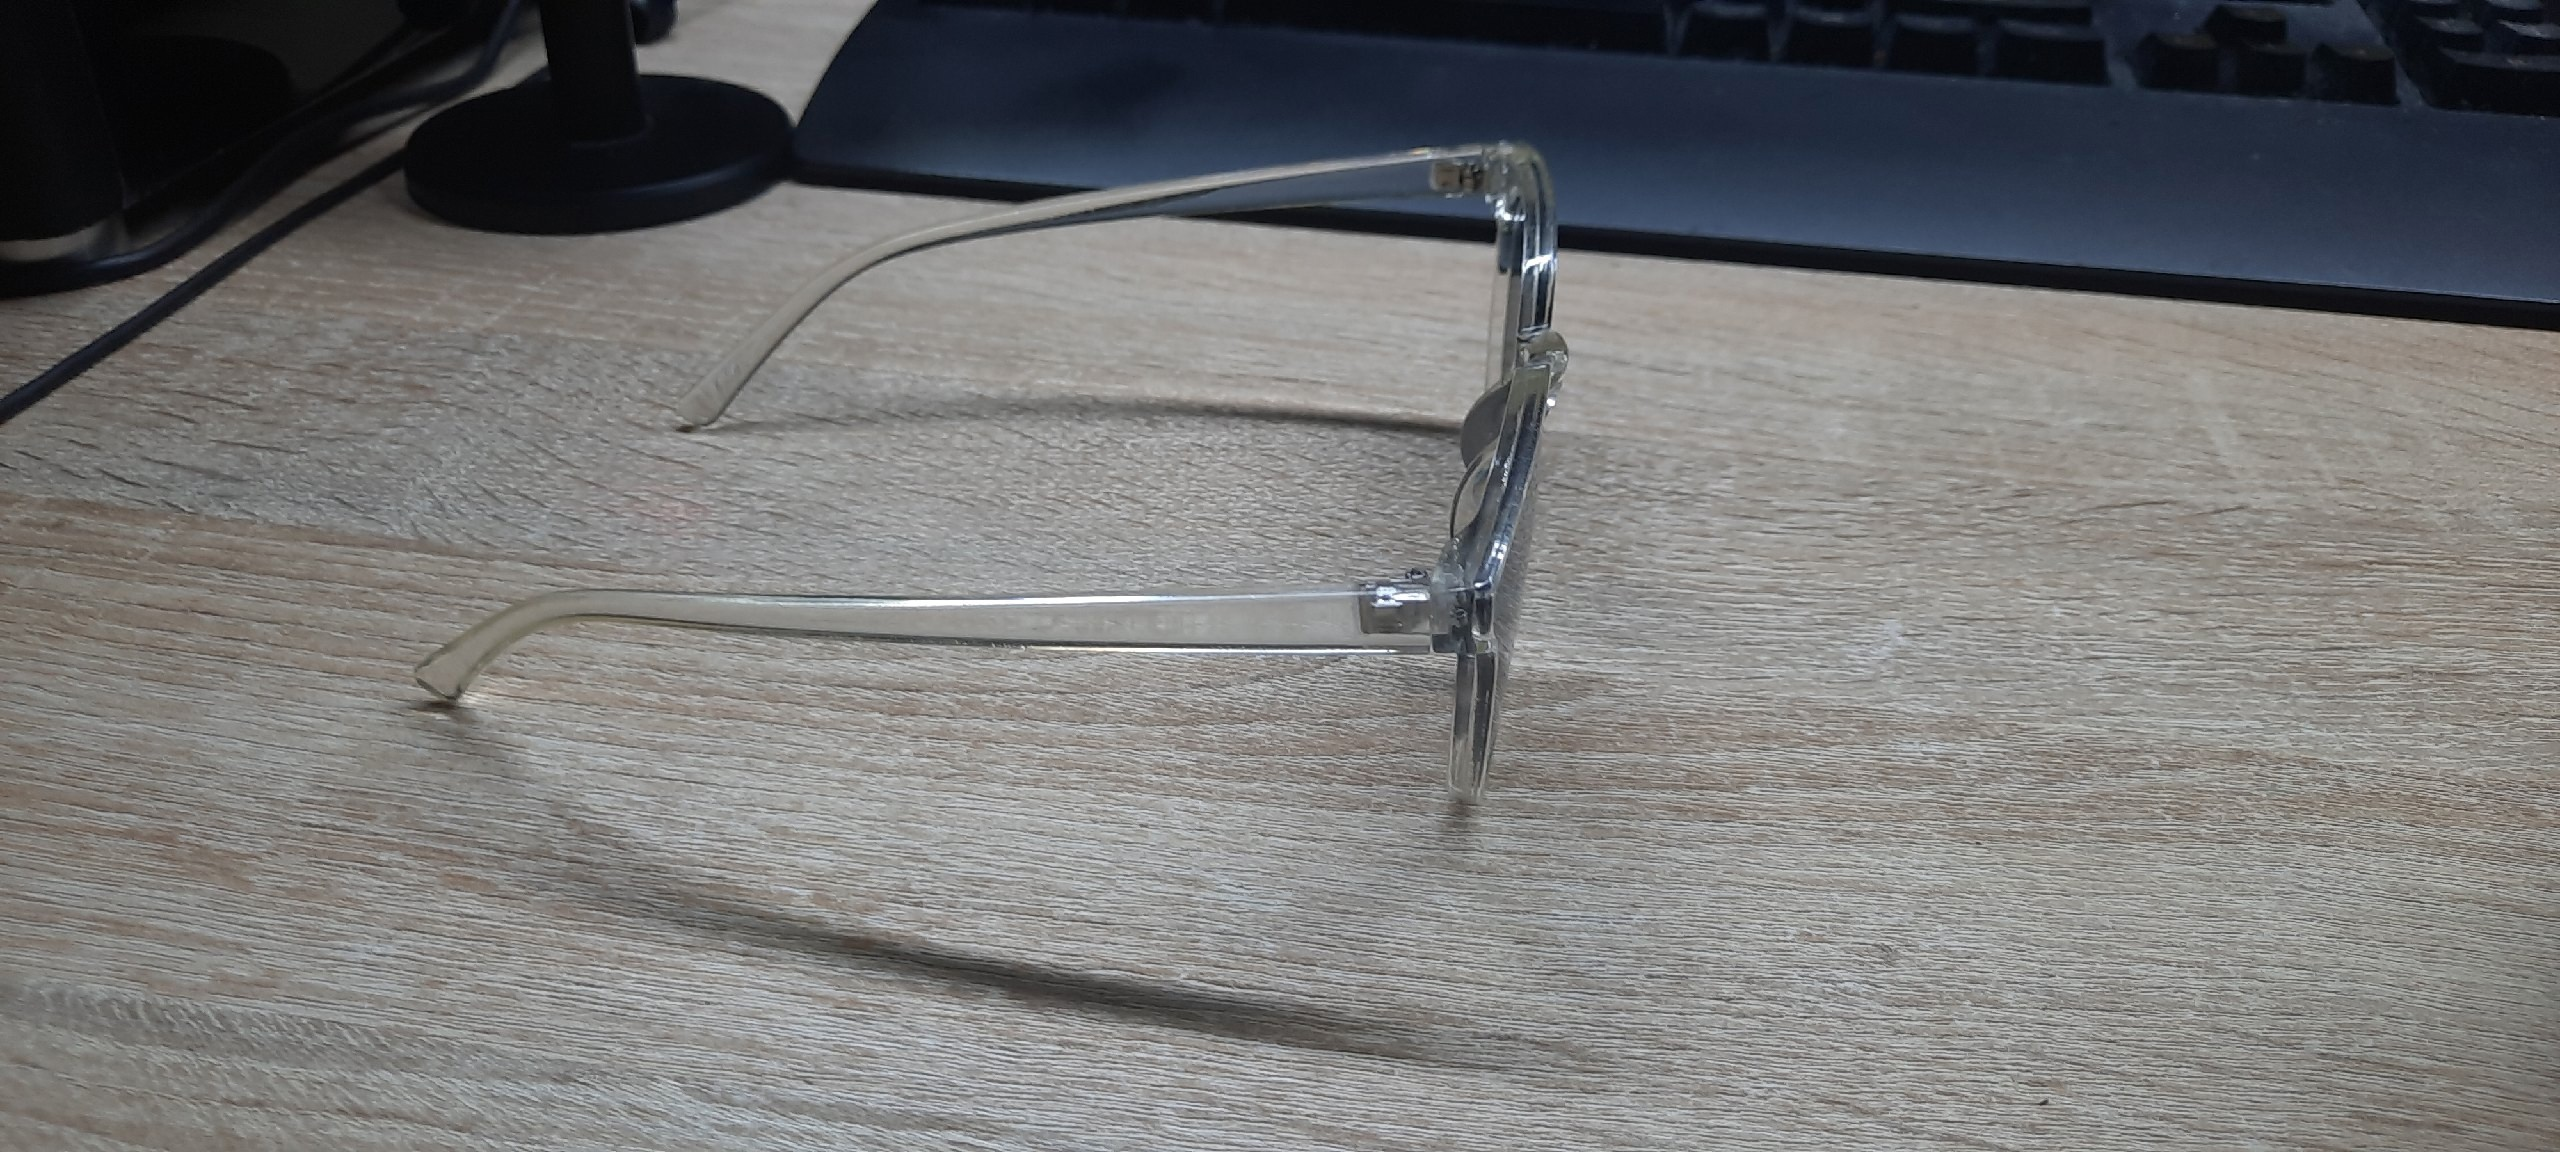glasses: (416, 144, 1567, 800)
